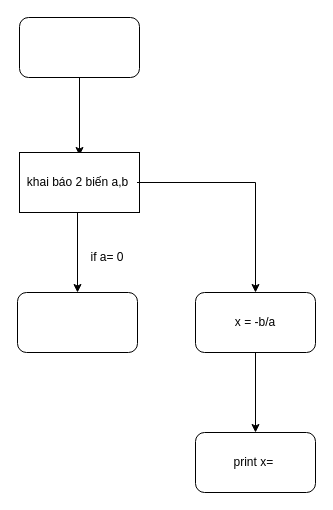
Some shapes in this 333 by 510 pixel diagram are drawn without their labels. Each missing label, with the centre of its shape:
print " pt vô nghiệm ": (77,322)
start: (79,47)
